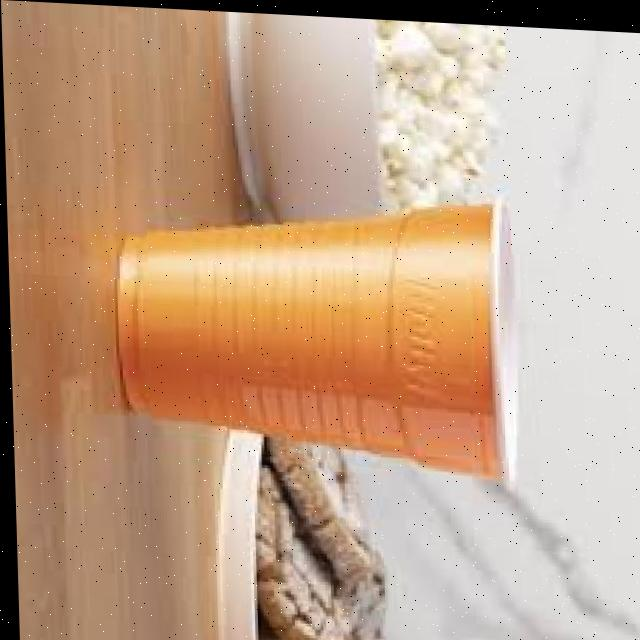cup: (78, 166, 534, 499)
